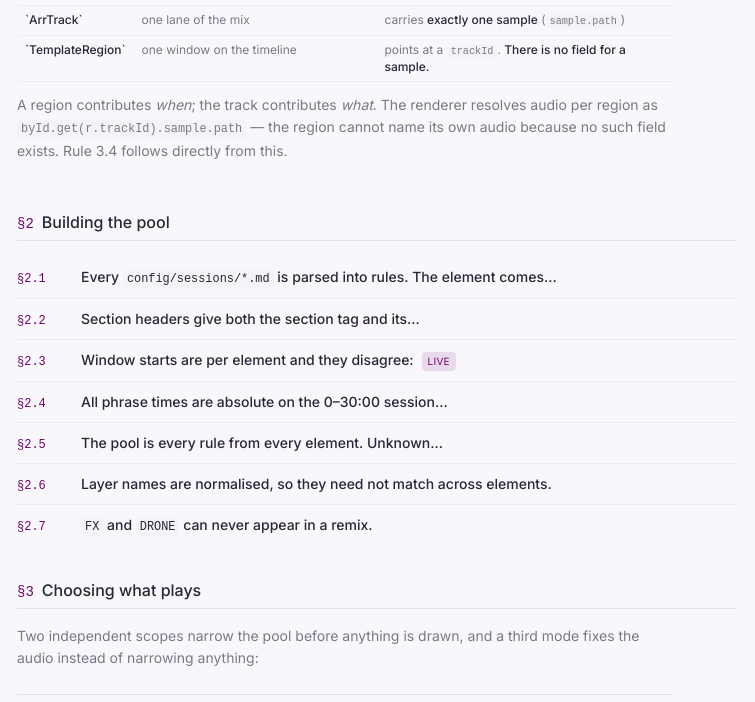
Test: RulebookPage — live evidence › shows AIR’s disagreeing section windows under §2.3
(page scrolled)
Click the button "§2.3 Window starts are per element and they disagree: live" at (377, 361), box left=17, top=340, right=737, bottom=381
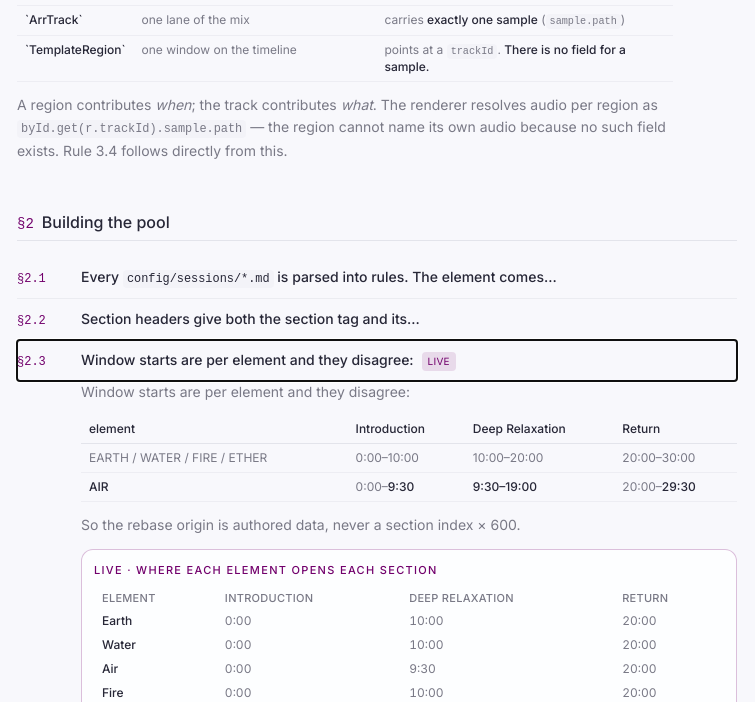
Check: the text "9:30" is shown, box left=401, top=657, right=614, bottom=681
